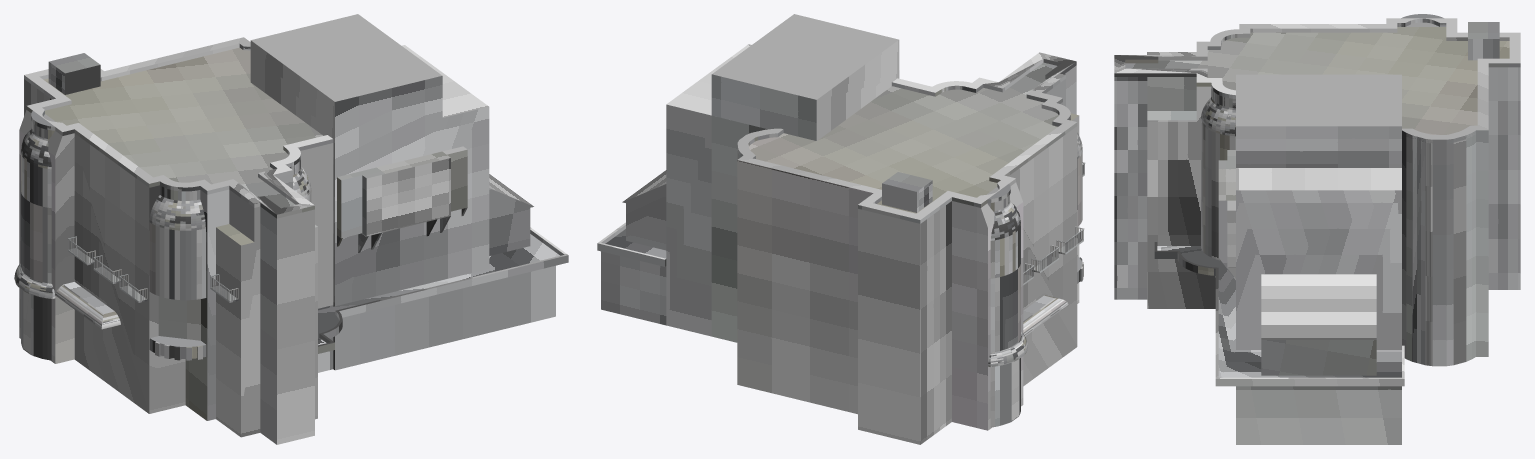
3 views of the same model, side by side, from view 1: azimuth 30°, elevation 25°; view 2: azimuth 150°, elevation 25°; view 3: azimuth 270°, elevation 25° (orthographic). The views are drawn at different scales.
Visible parts, largest first — view 1: op; view 2: op; view 3: op.
Boxes of the visible parts, left/top/right/bottom form: op: left=14, top=14, right=568, bottom=444; op: left=597, top=14, right=1085, bottom=444; op: left=1114, top=14, right=1520, bottom=444.
Bounding box in the file's own units: 49.14 × 28.48 × 39.69.
Materials: 3 (3 with a texture image).
